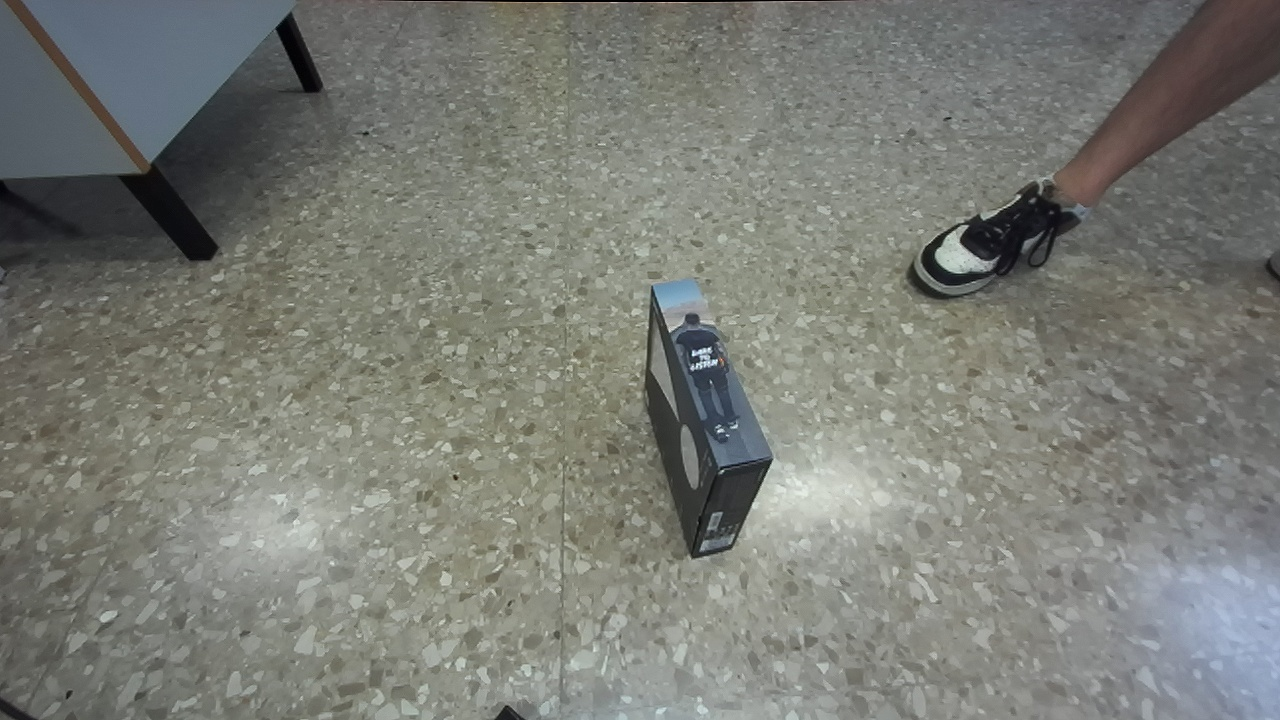caja_chasis: (645, 279, 772, 557)
